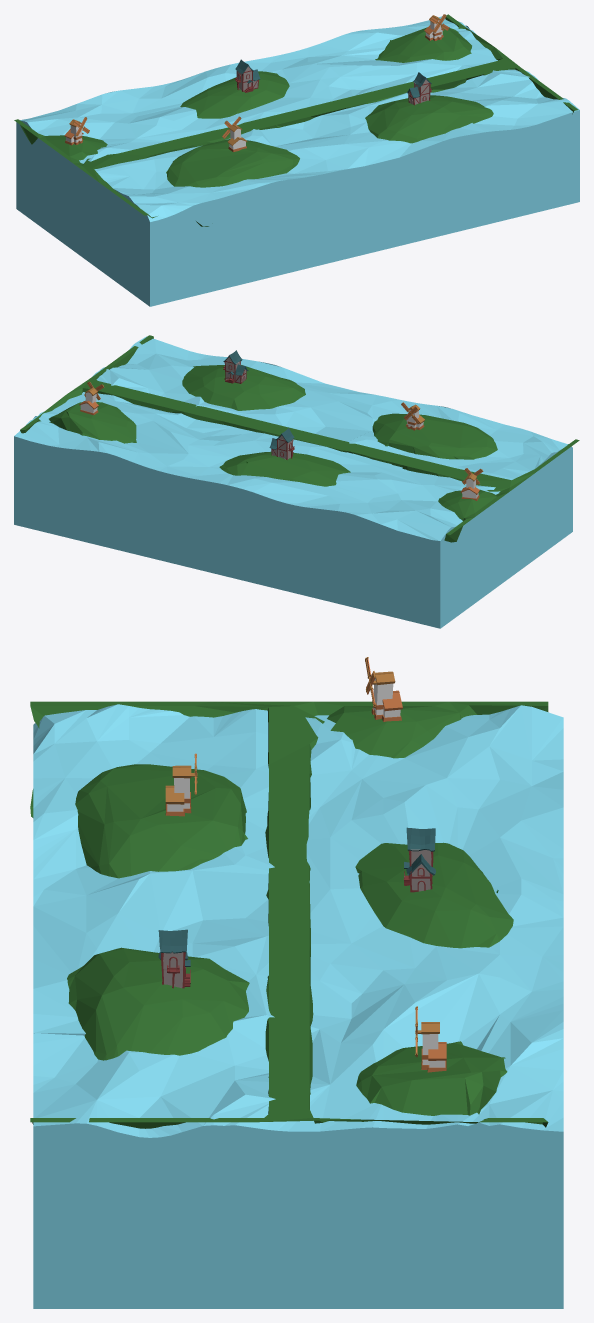
Rendered from Netherlands_5.fbx.
The picture shows the model from 3 angles, top to bottom: view 1: azimuth 30°, elevation 25°; view 2: azimuth 150°, elevation 25°; view 3: azimuth 270°, elevation 25°; orthographic projection. The views are drawn at different scales.
Visible parts, largest first — view 1: pPlane1, island1, Fantasy_House_6, Fantasy_House_8, mill7, mill6, mill5; view 2: pPlane1, island1, Fantasy_House_8, Fantasy_House_6, mill5, mill6, mill7; view 3: pPlane1, island1, Fantasy_House_6, Fantasy_House_8, mill6, mill5, mill7.
Part boxes in pixels (x1,y1,x2,y2): pPlane1: [16, 15, 579, 306]; island1: [14, 14, 578, 226]; Fantasy_House_6: [235, 59, 260, 92]; Fantasy_House_8: [406, 72, 431, 105]; mill7: [222, 116, 247, 152]; mill6: [64, 117, 89, 145]; mill5: [424, 14, 449, 40]; pPlane1: [14, 336, 572, 628]; island1: [20, 335, 579, 542]; Fantasy_House_8: [223, 350, 248, 383]; Fantasy_House_6: [269, 428, 294, 459]; mill5: [79, 381, 104, 415]; mill6: [460, 468, 483, 500]; mill7: [401, 402, 424, 430]; pPlane1: [33, 704, 563, 1308]; island1: [30, 701, 548, 1128]; Fantasy_House_6: [403, 827, 435, 892]; Fantasy_House_8: [158, 929, 190, 988]; mill6: [365, 657, 402, 721]; mill5: [415, 1006, 446, 1072]; mill7: [165, 753, 197, 816].
Bounding box in the file's own units: 60.27 × 17.37 × 32.17.
